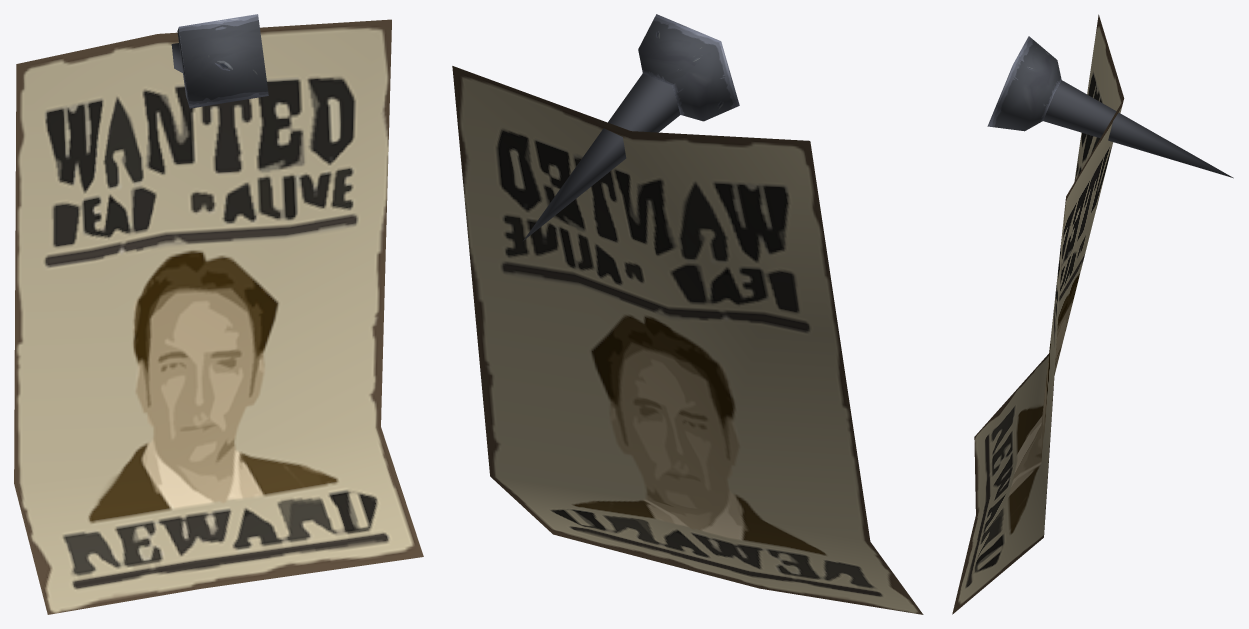
The model's file is SM_PROP_poster_02.fbx.
3 renders of one model, left to right at view 1: azimuth 30°, elevation 25°; view 2: azimuth 150°, elevation 25°; view 3: azimuth 270°, elevation 25°, orthographic. The views are drawn at different scales.
Visible parts, largest first — view 1: SM_PROP_poster_02; view 2: SM_PROP_poster_02; view 3: SM_PROP_poster_02.
Boxes of the visible parts, x1,y1,x2,y2 form: SM_PROP_poster_02: (14,14,423,614); SM_PROP_poster_02: (452,14,923,614); SM_PROP_poster_02: (952,14,1233,614).
Bounding box in the file's own units: 40.1 × 53.31 × 27.73.
